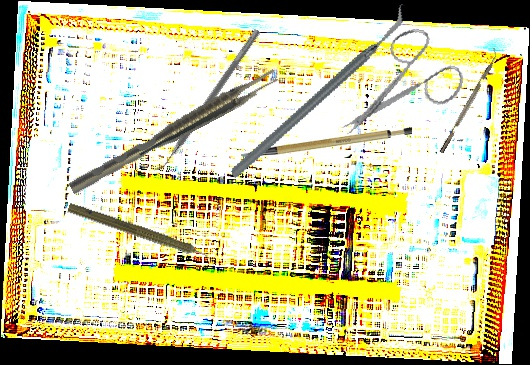Chopper: (197, 2, 440, 181), (434, 47, 502, 154)
Handpiece: (65, 200, 219, 269)
Iris Scissors: (339, 17, 473, 159)
Scalpel Handle: (241, 125, 412, 158)
Spatula Surgical: (151, 24, 261, 177)
Tissue Forceps: (64, 66, 282, 195)
